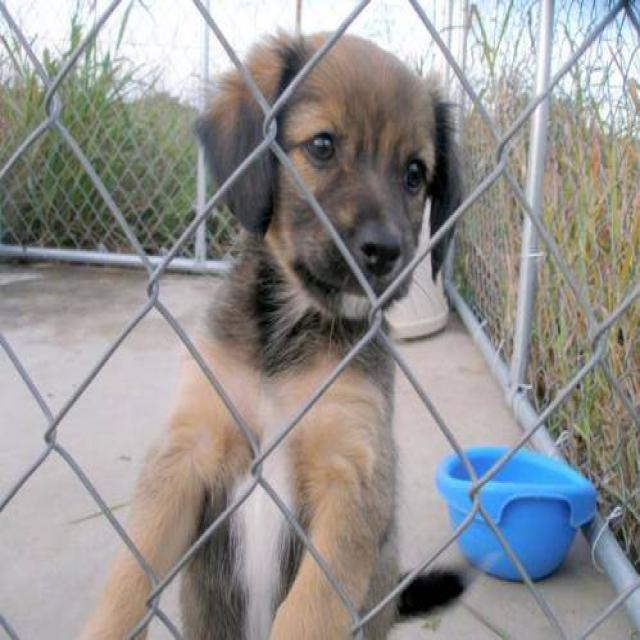dog: (51, 24, 468, 638)
